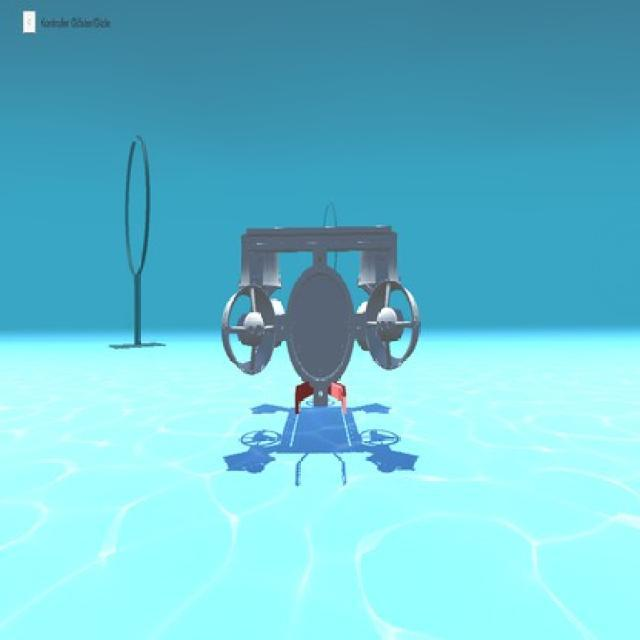Circle: (121, 133, 157, 282)
